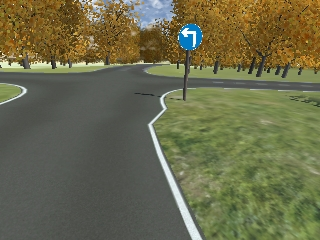left: (177, 23, 203, 48)
